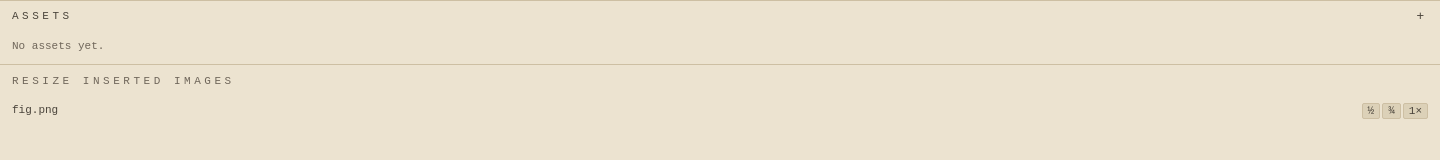
AssetPanel › does not show resize section when panel is closed
What coordinates should you click on to do the following:
click the button with class "toggle"
I would click on:
 (42, 16)
Its box is left=12, top=10, right=73, bottom=22.
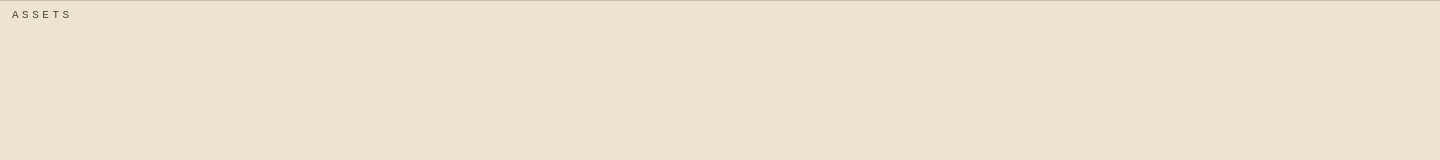
expect the element with class "resize-section" is gone: met
